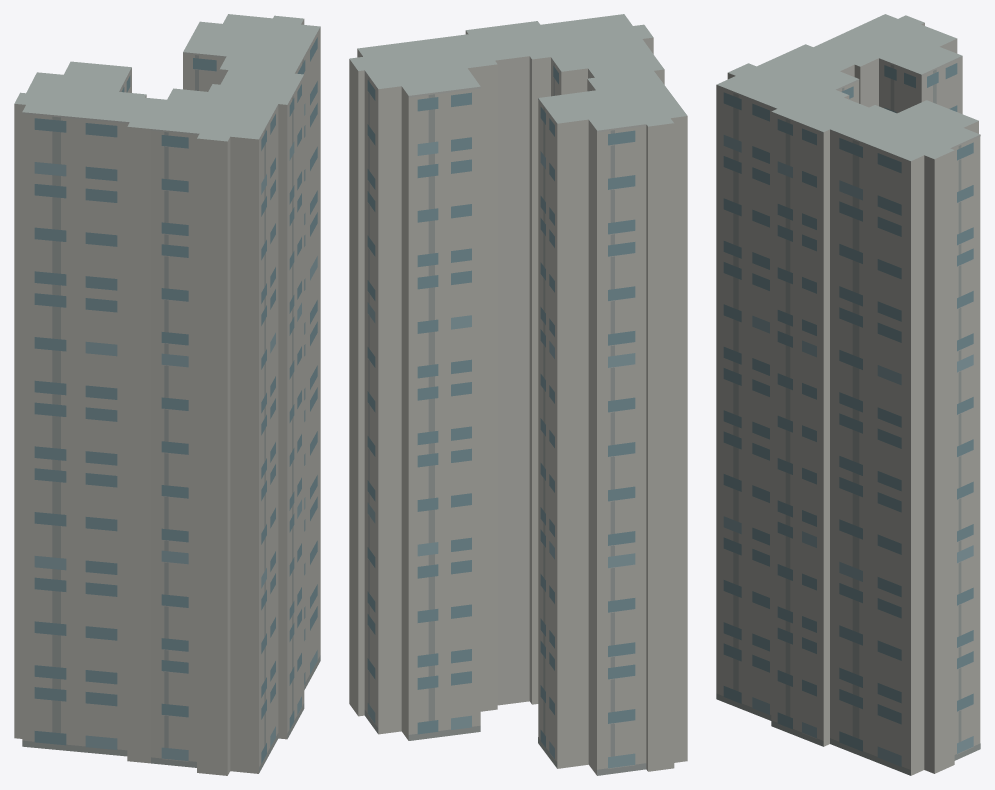
File: residential-9709f6d0-5cdd-43a9-abba-bf01c67e2cca.glb
3 views of the same model, side by side, from view 1: azimuth 30°, elevation 25°; view 2: azimuth 150°, elevation 25°; view 3: azimuth 270°, elevation 25° (orthographic). The views are drawn at different scales.
Parts seen in each view (by area): view 1: residential-9709f6d0-5cdd-43a9-abba-bf01c67e2cca.tmp; view 2: residential-9709f6d0-5cdd-43a9-abba-bf01c67e2cca.tmp; view 3: residential-9709f6d0-5cdd-43a9-abba-bf01c67e2cca.tmp.
Part boxes in pixels (box(x1,y1,x2,y2)): residential-9709f6d0-5cdd-43a9-abba-bf01c67e2cca.tmp: box(14, 14, 320, 775); residential-9709f6d0-5cdd-43a9-abba-bf01c67e2cca.tmp: box(349, 14, 687, 775); residential-9709f6d0-5cdd-43a9-abba-bf01c67e2cca.tmp: box(716, 14, 980, 775).
Bounding box in the file's own units: 47.29 × 92 × 35.82.
